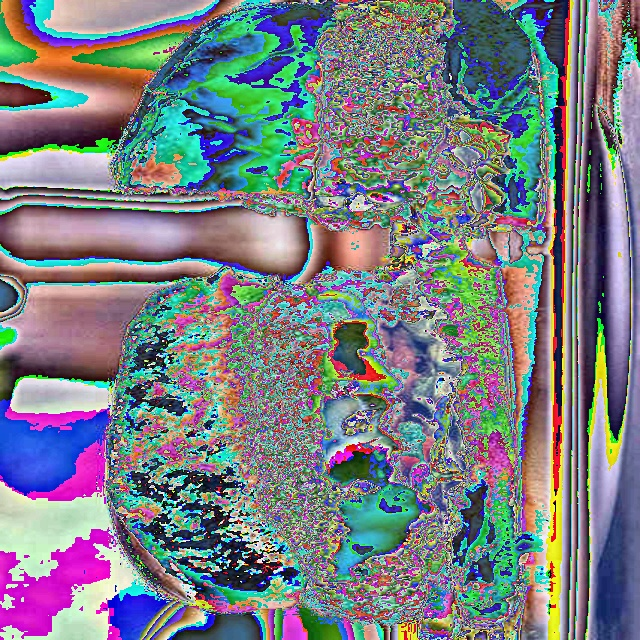background: (105, 0, 542, 640)
